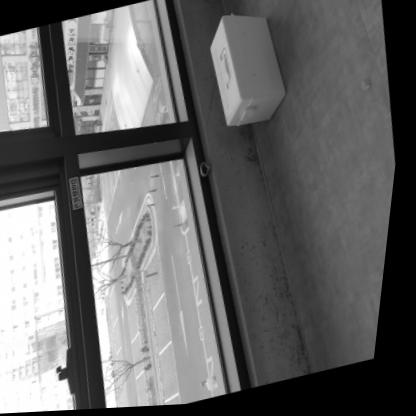DDL: (198, 6, 300, 133)
